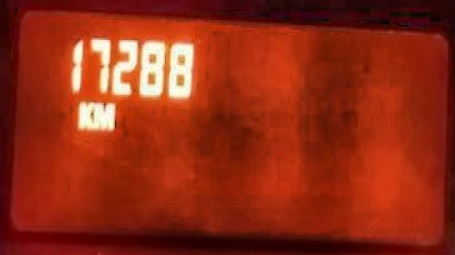1: (65, 34, 84, 93)
2: (110, 35, 137, 96)
7: (86, 35, 108, 95)
8: (165, 38, 194, 99), (139, 38, 165, 98)
X: (92, 98, 115, 131), (75, 98, 92, 131)
